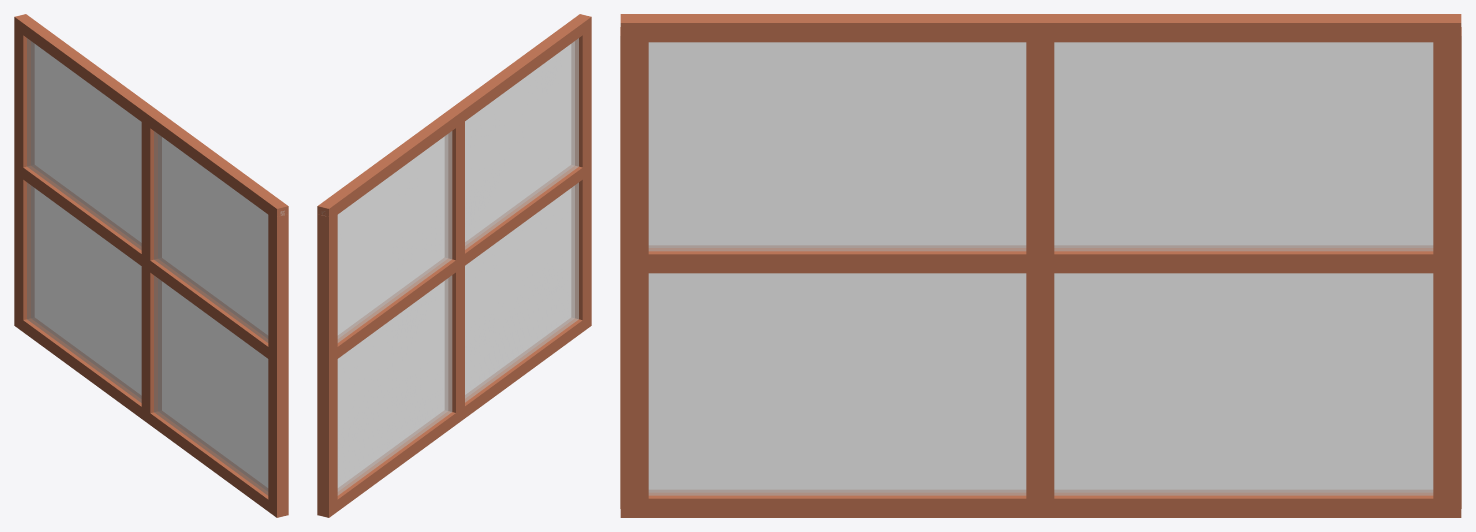
The model's file is Window.fbx.
3 renders of one model, left to right at view 1: azimuth 30°, elevation 25°; view 2: azimuth 150°, elevation 25°; view 3: azimuth 270°, elevation 25°, orthographic. The views are drawn at different scales.
Parts seen in each view (by area): view 1: Glass, Window; view 2: Glass, Window; view 3: Glass, Window.
Part boxes in pixels (<box>): Glass: <box>27,38,284,495</box>; Window: <box>14,14,288,517</box>; Glass: <box>322,38,578,495</box>; Window: <box>317,14,591,517</box>; Glass: <box>648,42,1433,495</box>; Window: <box>620,14,1461,517</box>.
Size of the model in its own units: 19.18 by 489 by 754.
